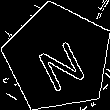N_NW: (29, 26, 87, 89)
